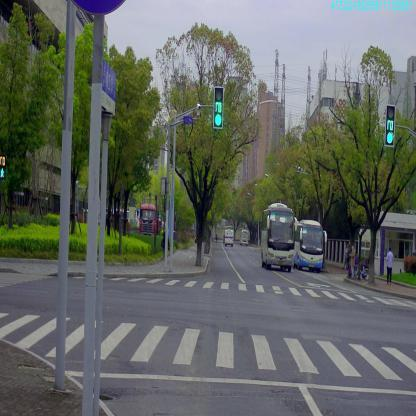traffic-light: (386, 104, 396, 146), (214, 87, 224, 128)
